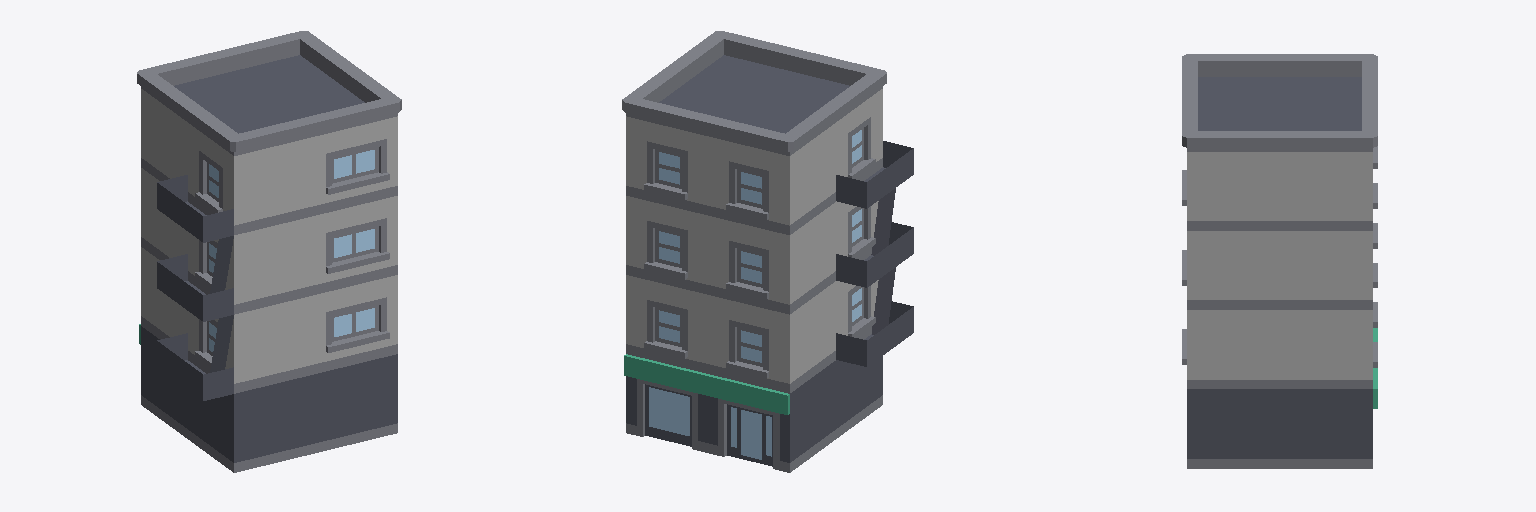
The model's file is insta_residential_concrete_3.obj.
The picture shows the model from 3 angles: view 1: azimuth 30°, elevation 25°; view 2: azimuth 150°, elevation 25°; view 3: azimuth 270°, elevation 25°; orthographic projection.
Visible parts, largest first — view 1: city_residential_3__defaultMat(Clone), city_residential_3_door(Clone), city_residential_3_border(Clone), city_residential_3_window(Clone); view 2: city_residential_3__defaultMat(Clone), city_residential_3_border(Clone), city_residential_3_door(Clone), city_residential_3_window(Clone), city_residential_3_roof(Clone); view 3: city_residential_3__defaultMat(Clone), city_residential_3_door(Clone), city_residential_3_border(Clone).
Part boxes in pixels (x1,y1,x2,y2): city_residential_3__defaultMat(Clone): (141,89,397,383); city_residential_3_door(Clone): (141,55,397,462); city_residential_3_border(Clone): (137,31,401,472); city_residential_3_window(Clone): (209,150,374,351); city_residential_3__defaultMat(Clone): (626,89,882,383); city_residential_3_border(Clone): (622,31,886,472); city_residential_3_door(Clone): (626,55,913,466); city_residential_3_window(Clone): (649,130,861,459); city_residential_3_roof(Clone): (624,354,789,414); city_residential_3__defaultMat(Clone): (1187,152,1372,379); city_residential_3_door(Clone): (1187,77,1372,458); city_residential_3_border(Clone): (1182,54,1377,468).
Bounding box in the file's own units: 0.6286 × 1.01 × 0.5376.